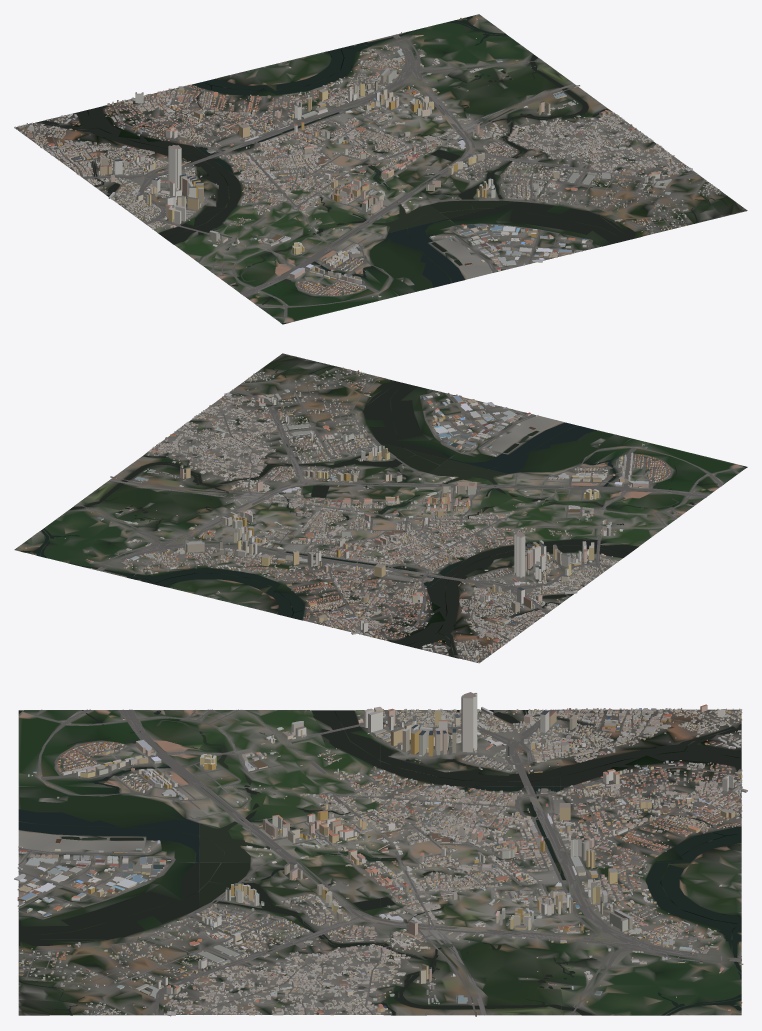
3 renders of one model, top to bottom at view 1: azimuth 30°, elevation 25°; view 2: azimuth 150°, elevation 25°; view 3: azimuth 270°, elevation 25°, orthographic. The views are drawn at different scales.
Parts seen in each view (by area): view 1: ground, buildings, water, roads; view 2: ground, buildings, water, roads; view 3: ground, buildings, water, roads.
Part boxes in pixels (left/top/right/bottom): ground: left=15, top=14, right=747, bottom=324; buildings: left=14, top=18, right=719, bottom=297; water: left=35, top=16, right=728, bottom=324; roads: left=22, top=34, right=721, bottom=318; ground: left=14, top=353, right=747, bottom=663; buildings: left=24, top=367, right=694, bottom=663; water: left=21, top=363, right=747, bottom=658; roads: left=76, top=368, right=739, bottom=659; ground: left=18, top=709, right=741, bottom=1015; buildings: left=14, top=692, right=747, bottom=1016; water: left=18, top=710, right=741, bottom=1015; roads: left=18, top=709, right=741, bottom=1015.
Size of the model in its own units: 5647 by 466 by 5687.
